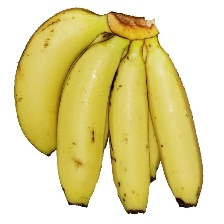banana: (26, 36, 194, 216)
